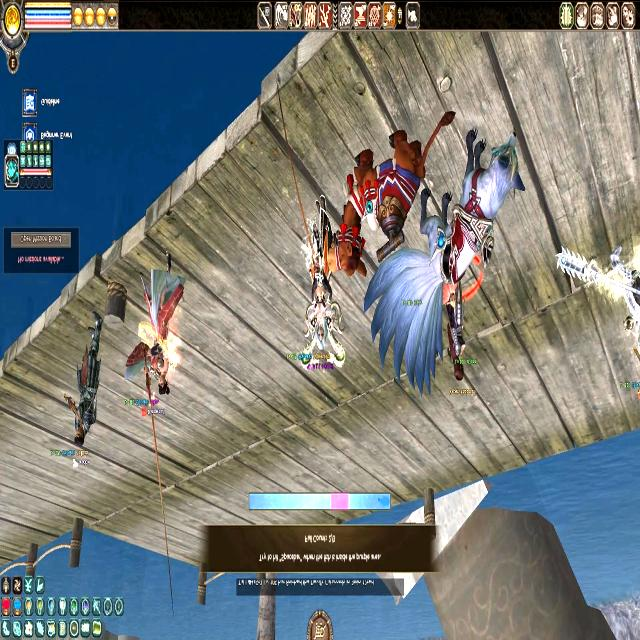fishes: (377, 495, 390, 508)
